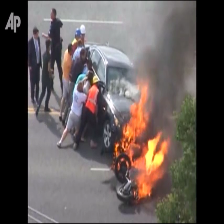fire_h: (121, 71, 170, 199)
fire_l: (116, 158, 129, 171), (114, 142, 120, 158)
